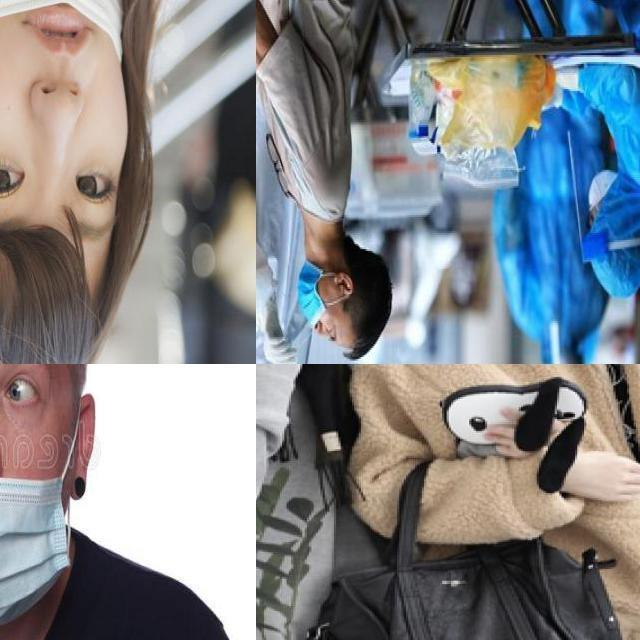hairnet: (0, 0, 127, 251), (297, 260, 339, 347)
